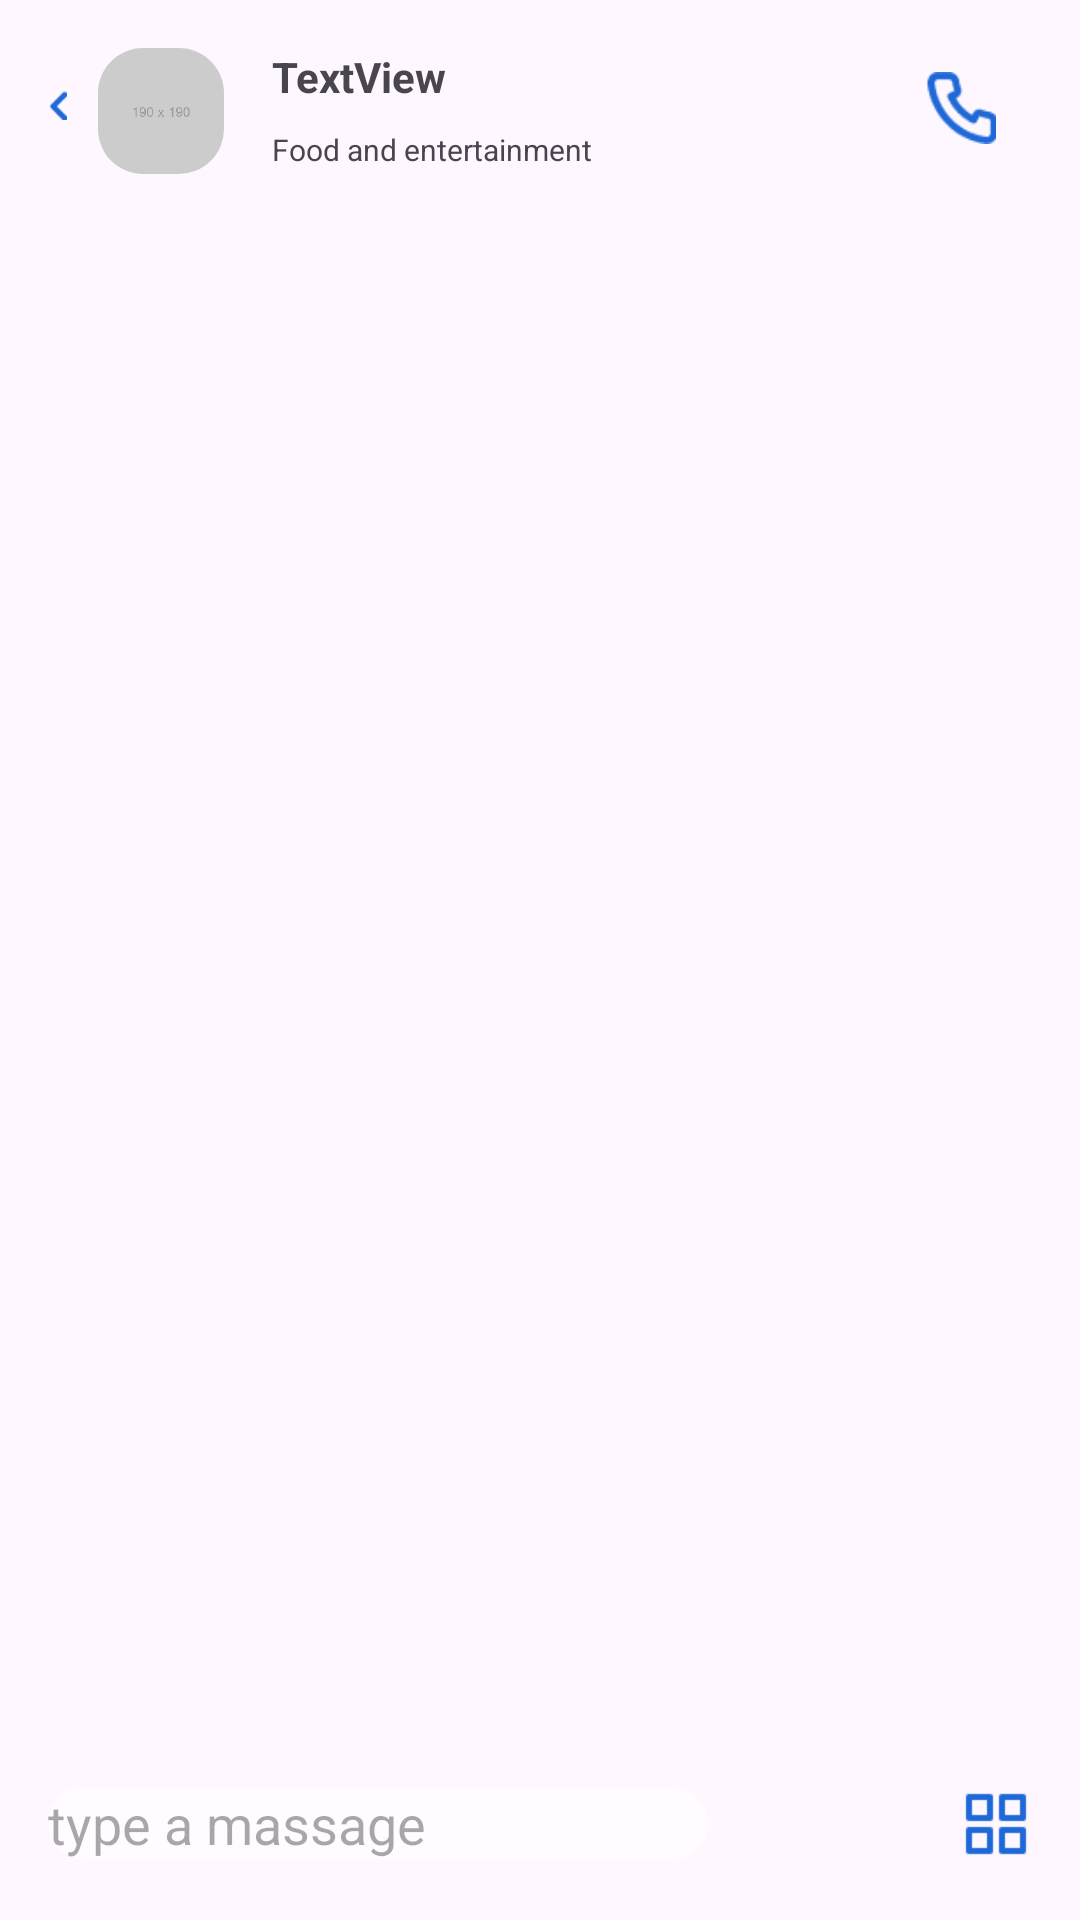

Icons on this 1080x1920 Android screen, each with its box as detection(x1, y1, x2, y2):
imgcall: detection(927, 72, 996, 144)
morechat: detection(965, 1793, 1027, 1855)
